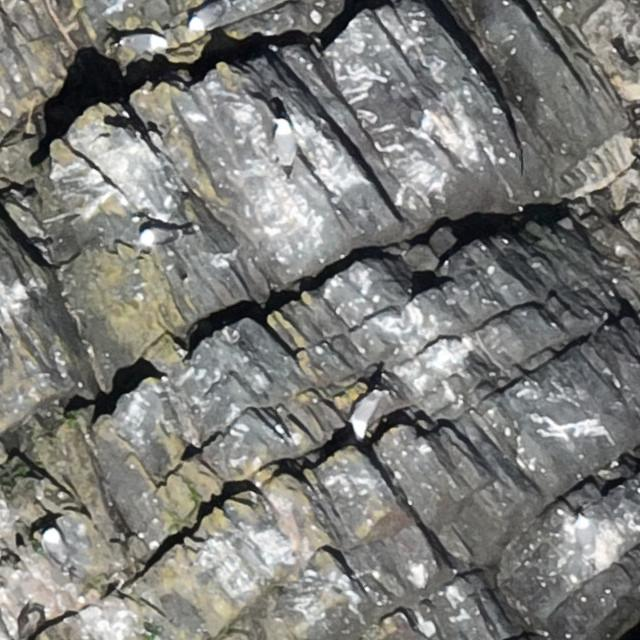umineko: (352, 392, 383, 439), (272, 119, 296, 169), (191, 6, 221, 31), (121, 34, 159, 52), (44, 531, 65, 563), (142, 228, 174, 245)
